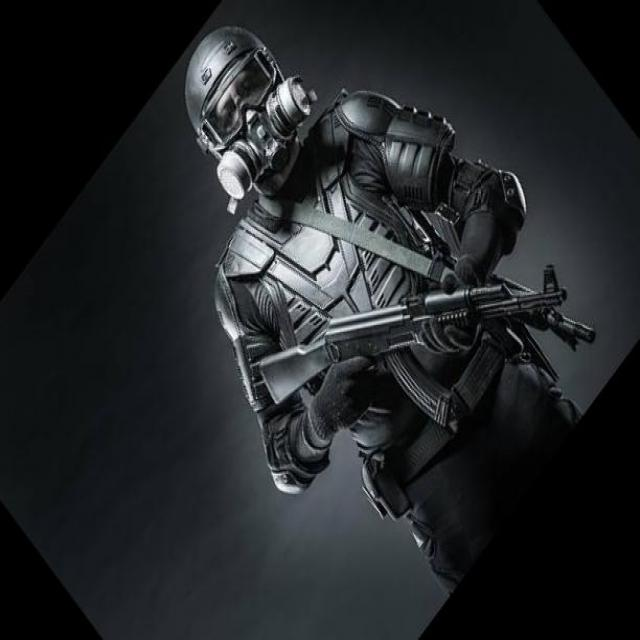weapon: (258, 261, 570, 428)
